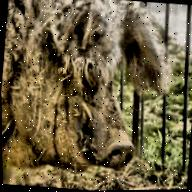boar: (1, 0, 167, 192)
